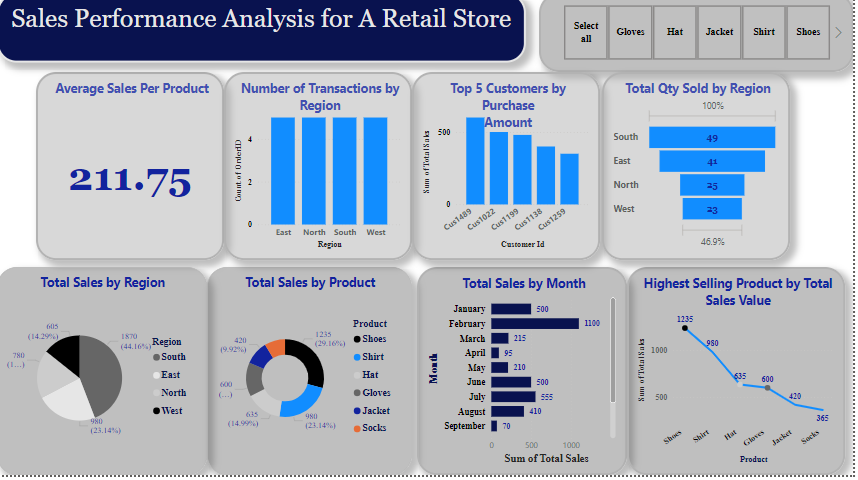

The page's visual inventory and layout, read from the dashboard file:
{"tool":"powerbi","page":{"name":"Page 2","canvas":[1280,720],"ordinal":1},"visuals":[{"type":"cardVisual","fields":{"Data":["SalesData$.Avg Revenue"]},"box":[10,0,280,280],"z":0},{"type":"cardVisual","fields":{"Data":["Min(Highestselling.product_type)"]},"box":[7.9,465.1,281,255.6],"z":1},{"type":"donutChart","title":"Monthly Sales for the Current Year","fields":{"Y":["Sum(Monthlysalesforyear.Totalsales)"],"Category":["Monthlysalesforyear.Month"]},"box":[290.5,0,279.4,279.4],"z":2},{"type":"multiRowCard","title":"Products with no Sales in the Last Quarter","fields":{"Values":["Nosaleslastquarter.Product_type"]},"box":[288.9,465.1,281,255.6],"z":3},{"type":"clusteredColumnChart","fields":{"Category":["SalesbyRegion.Region"],"Y":["Sum(SalesbyRegion.Number_of_Sales_Transactions)"]},"box":[569.8,0,281,279.4],"z":4},{"type":"pieChart","fields":{"Y":["Sum(SalesbyProductCategory.Total_Sales)"],"Category":["SalesbyProductCategory.Product_type"]},"box":[569.8,465.1,281,255.6],"z":5},{"type":"pivotTable","title":"Top 5 Customers by Products ","fields":{"Values":["Sum(TOP5Customers.Totalpurchase)"],"Rows":["TOP5Customers.Product_type"],"Columns":["TOP5Customers.Customerid"]},"box":[838.1,0,281,279.4],"z":6},{"type":"columnChart","title":"Total Sales by Region","fields":{"Category":["TotalsalesbyRegion.Region"],"Y":["Sum(TotalsalesbyRegion.Total_Sales)"]},"box":[850.8,419,281,301.6],"z":7}]}

Visuals, with their boxes in screenshot pixels (x1, y1, x2, y2), scaled from the page's 1280x720 canvas onto the 858x480 screenshot:
cardVisual - SalesData$.Avg Revenue: detection(7, 0, 194, 187)
cardVisual - Min(Highestselling.product_type): detection(5, 310, 194, 479)
"Monthly Sales for the Current Year" donutChart: detection(195, 0, 382, 186)
"Products with no Sales in the Last Quarter" multiRowCard: detection(194, 310, 382, 479)
clusteredColumnChart - SalesbyRegion.Region x Sum(SalesbyRegion.Number_of_Sales_Transactions): detection(382, 0, 570, 186)
pieChart - Sum(SalesbyProductCategory.Total_Sales) x SalesbyProductCategory.Product_type: detection(382, 310, 570, 479)
"Top 5 Customers by Products " pivotTable: detection(562, 0, 750, 186)
"Total Sales by Region" columnChart: detection(570, 279, 759, 479)
